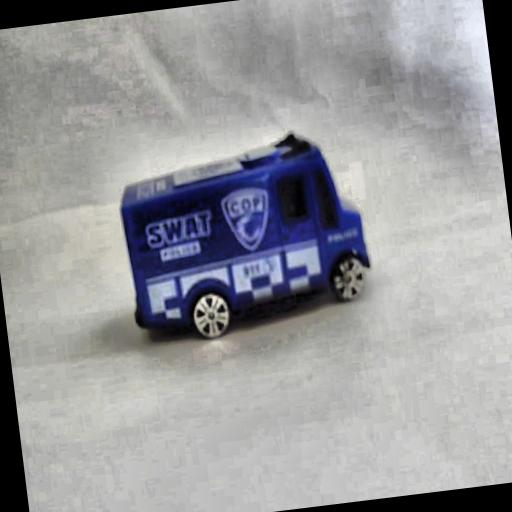police car: (108, 128, 379, 338)
